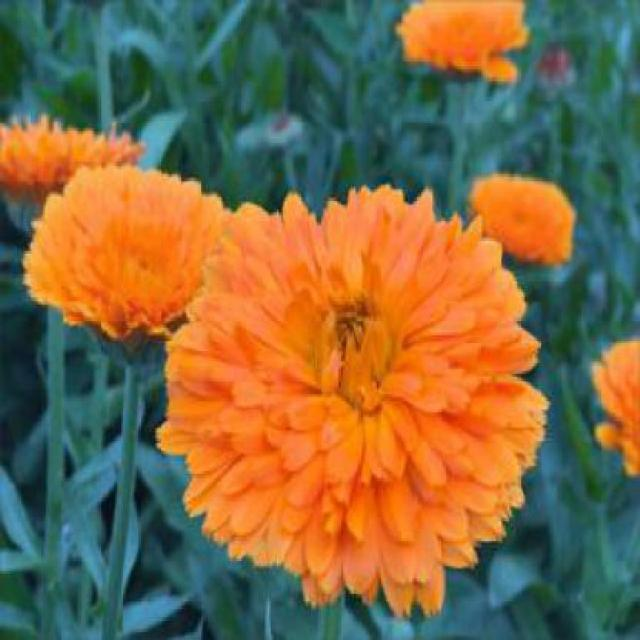Flower: (156, 182, 553, 622), (23, 162, 237, 343), (2, 110, 148, 210), (394, 3, 531, 85), (465, 169, 577, 266)
